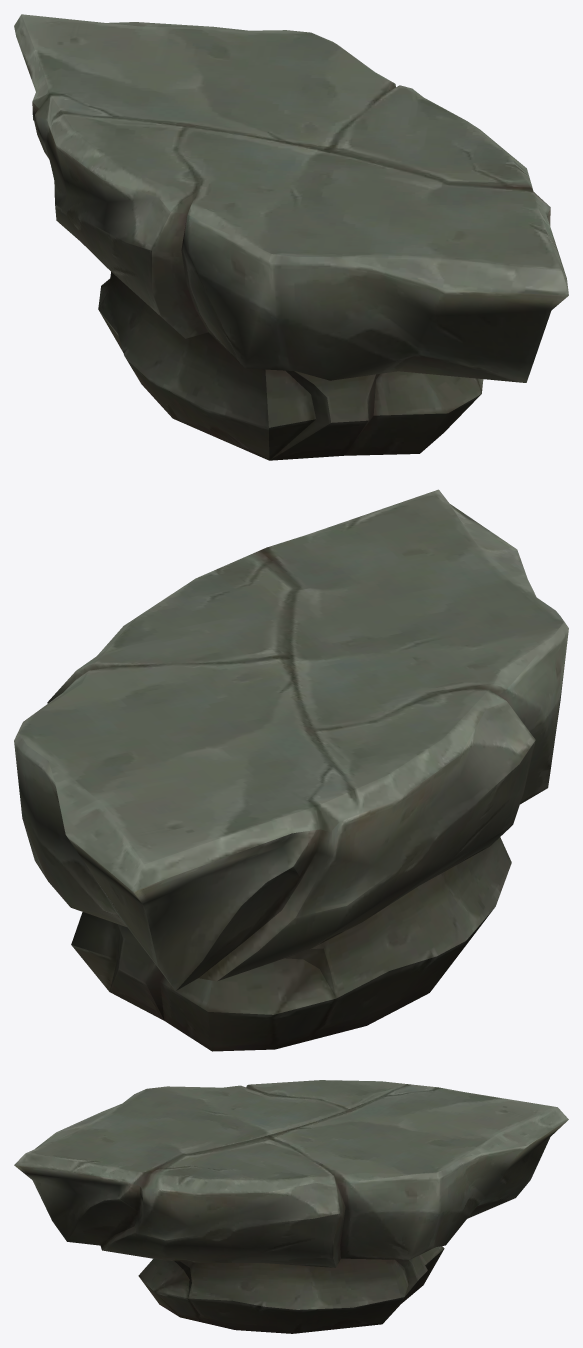
3 views of the same model, one above another, from view 1: azimuth 30°, elevation 25°; view 2: azimuth 150°, elevation 25°; view 3: azimuth 270°, elevation 25° (orthographic). The views are drawn at different scales.
Size of the model in its own units: 2.11 by 1.37 by 4.18.
Materials: 1 (1 with a texture image).
